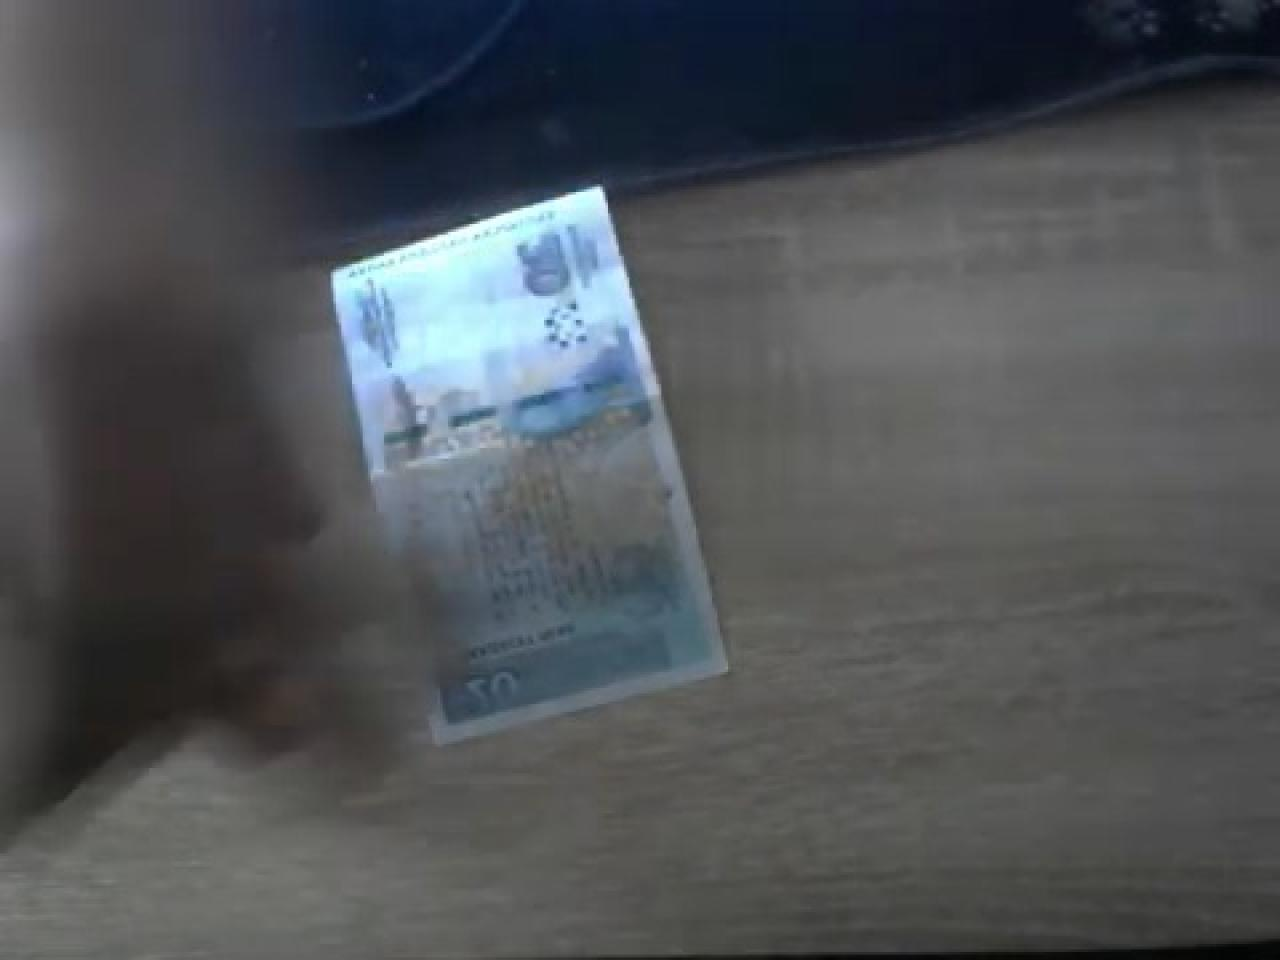20leva: (328, 190, 734, 749)
